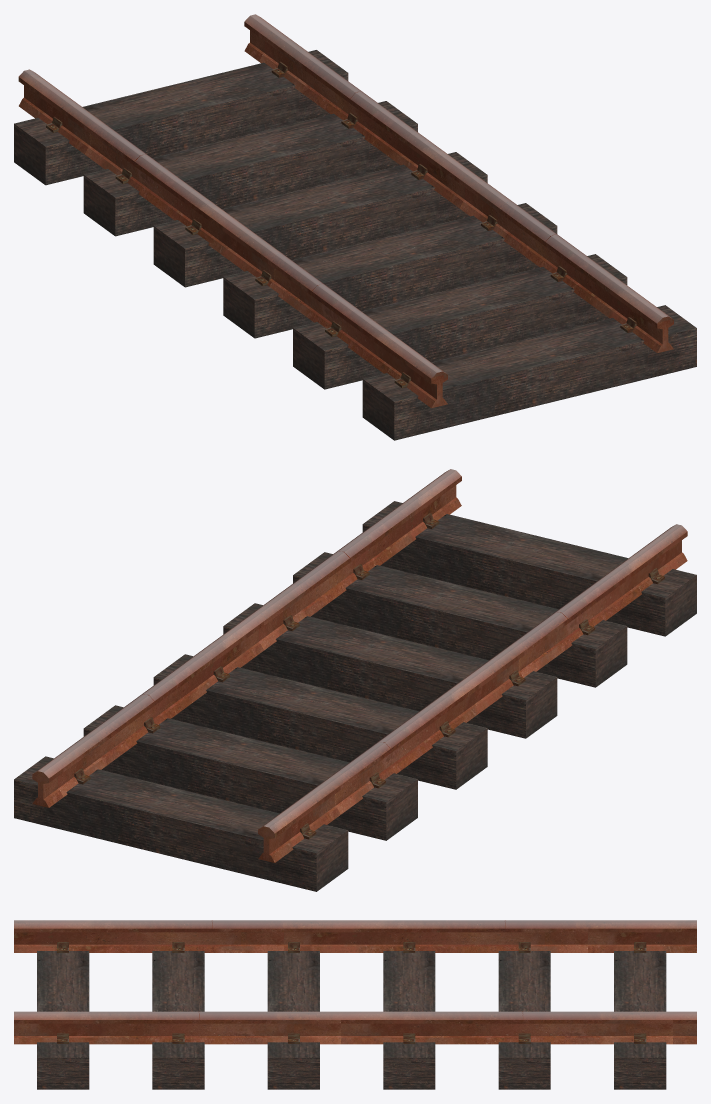
File: rail_track_1067mm_tracks.obj
3 views of the same model, one above another, from view 1: azimuth 30°, elevation 25°; view 2: azimuth 150°, elevation 25°; view 3: azimuth 270°, elevation 25° (orthographic). The views are drawn at different scales.
Visible parts, largest first — view 1: RailTrackLogs, RailTrackTrack; view 2: RailTrackLogs, RailTrackTrack; view 3: RailTrackTrack, RailTrackLogs.
Boxes of the visible parts, x1,y1,x2,y2 form: RailTrackLogs: (14,50,696,440); RailTrackTrack: (18,14,673,408); RailTrackLogs: (14,501,696,891); RailTrackTrack: (32,469,687,862); RailTrackTrack: (14,920,696,1044); RailTrackLogs: (37,951,666,1089).
Size of the model in its own units: 1.51 by 0.3392 by 3.58.
